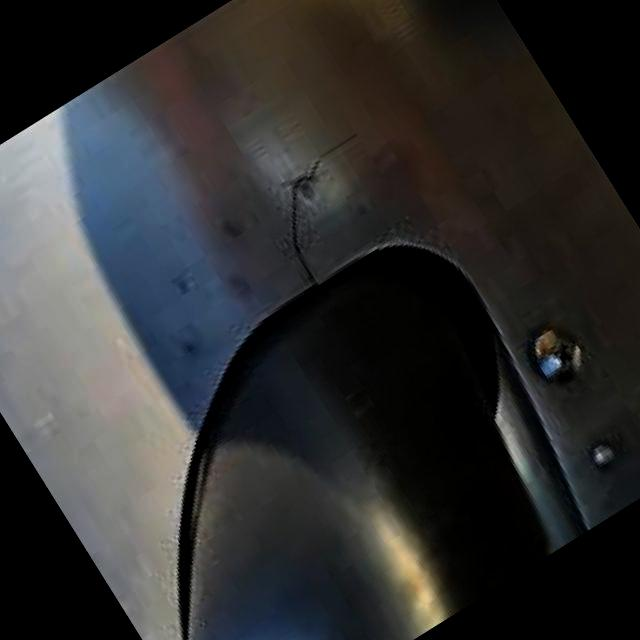defect: (286, 127, 363, 289)
